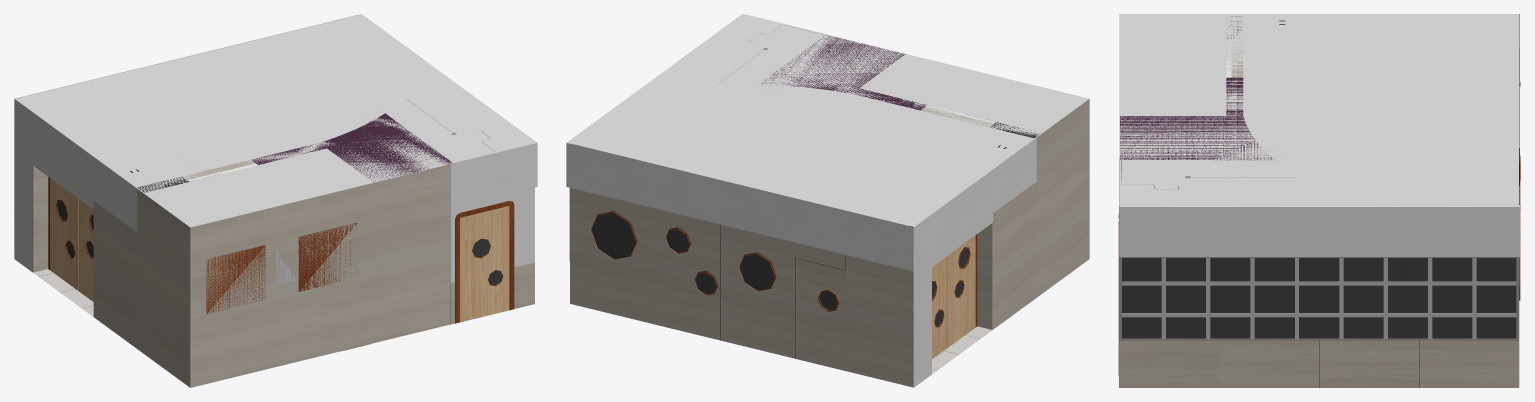
The model's file is classroom_alternative.glb.
The picture shows the model from 3 angles, left to right: view 1: azimuth 30°, elevation 25°; view 2: azimuth 150°, elevation 25°; view 3: azimuth 270°, elevation 25°; orthographic projection. The views are drawn at different scales.
Parts seen in each view (by area): view 1: Plane.002; view 2: Plane.002; view 3: Plane.002.
Part boxes in pixels (left/top/right/bottom): Plane.002: left=14, top=14, right=537, bottom=387; Plane.002: left=566, top=14, right=1089, bottom=387; Plane.002: left=1118, top=14, right=1520, bottom=387.
Bounding box in the file's own units: 7.21 × 3.2 × 6.35.
Materials: 3 (1 with a texture image).
